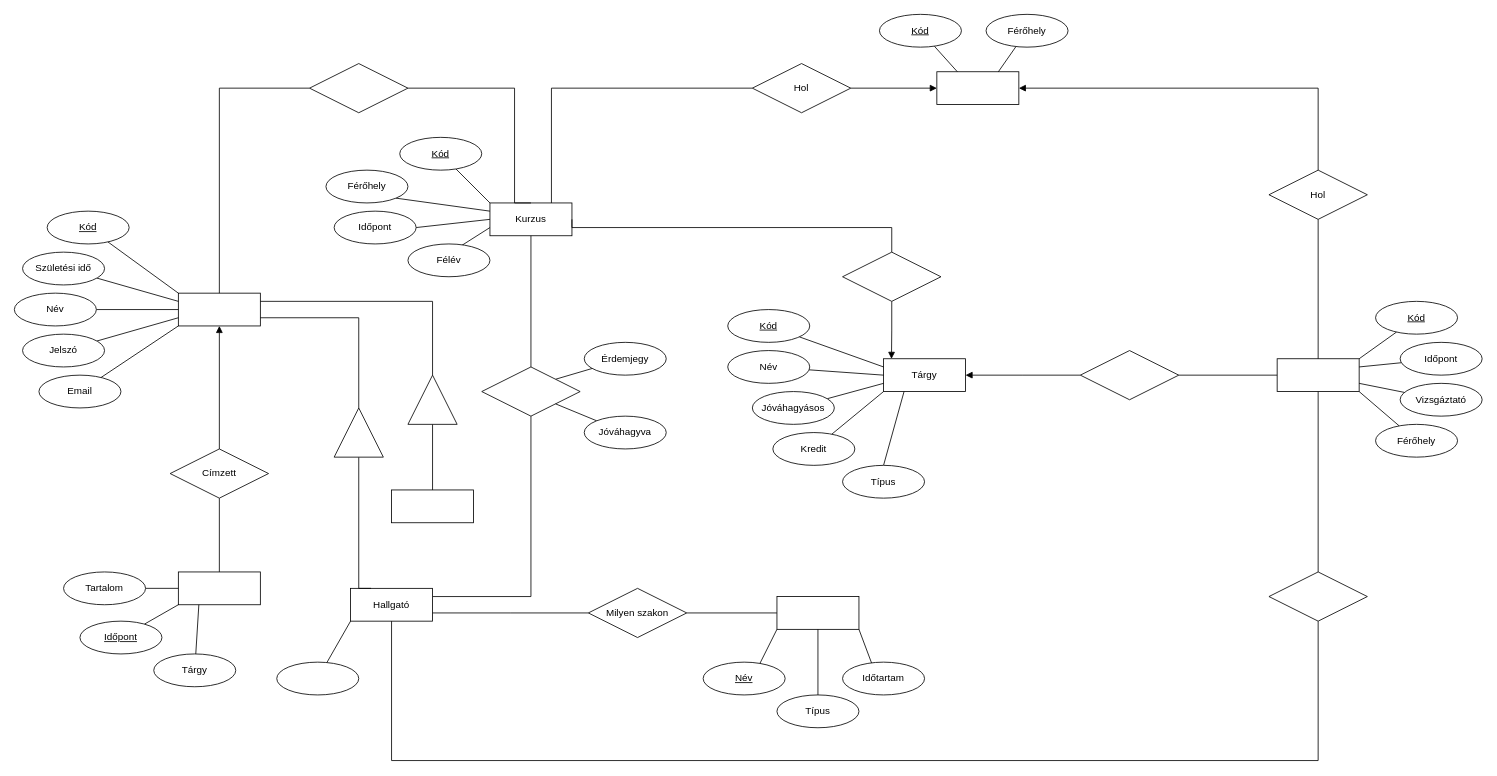
Image size: 1497x776. Some labels were removed from this diagram. Here are the shapes that lost their labels. From the top down, the centre of each, then its label:
At (x=358, y=88): "Kurzust oktat".
At (x=977, y=88): "Terem".
At (x=891, y=276): "Kurzusok".
At (x=219, y=309): "Felhasználó".
At (x=530, y=391): "Felvett kurzus".
At (x=1129, y=375): "Milyen tárgyból".
At (x=1317, y=375): "Vizsga".
At (x=432, y=506): "Admin".
At (x=219, y=588): "Üzenet".
At (x=1317, y=596): "Felvett vizsga".
At (x=817, y=612): "Szak".
At (x=317, y=678): "Kezdés éve".
